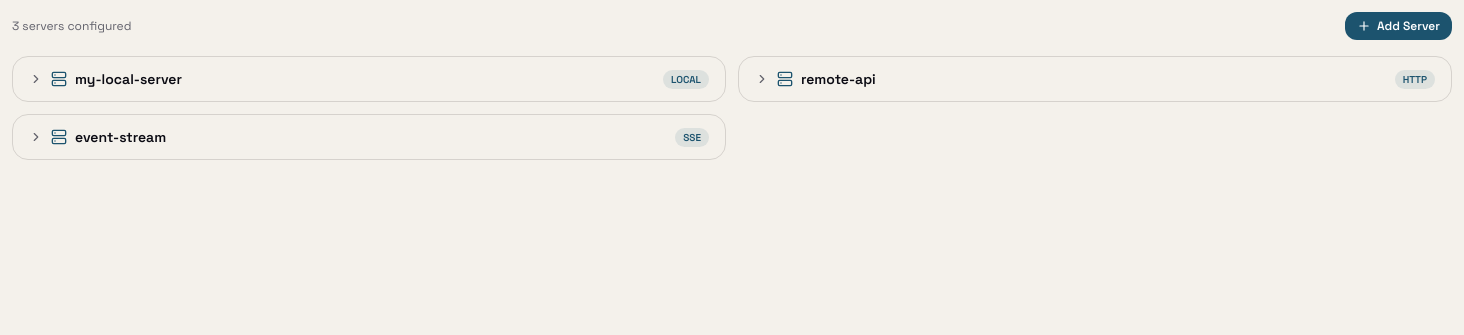
Test case: McpEditorPanel › shows command for local servers
// Expand the local server card
Click the text "my-local-server": (128, 79) x1=75 y1=69 x2=182 y2=89
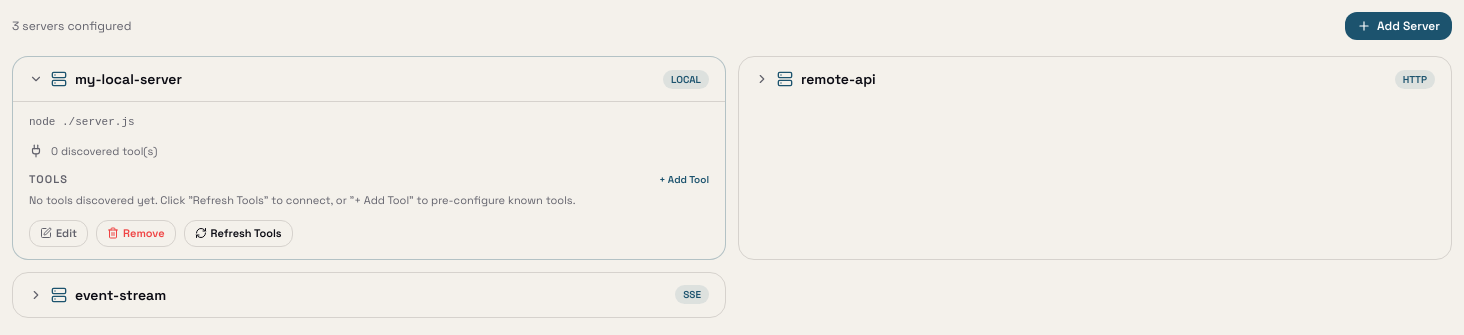
Check: the text "node ./server.js" is shown, box x1=29 y1=116 x2=135 y2=128
